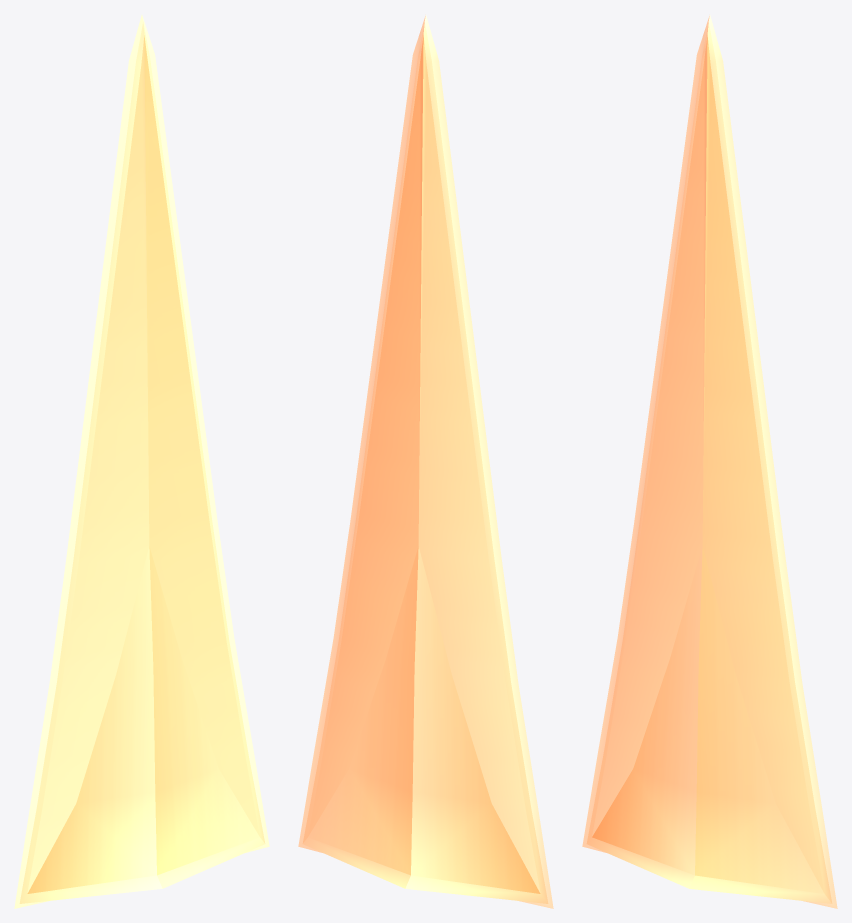
The model's file is wood_blade (21).glb.
3 renders of one model, left to right at view 1: azimuth 30°, elevation 25°; view 2: azimuth 150°, elevation 25°; view 3: azimuth 330°, elevation 25°, orthographic.
Parts seen in each view (by area): view 1: wood_blade_steel.065; view 2: wood_blade_steel.065; view 3: wood_blade_steel.065.
Boxes of the visible parts, x1,y1,x2,y2 form: wood_blade_steel.065: (14,15,269,908); wood_blade_steel.065: (298,15,553,908); wood_blade_steel.065: (582,15,837,908).
Bounding box in the file's own units: 3.52 × 11.43 × 0.9907.
Materials: 1 (1 with a texture image).
